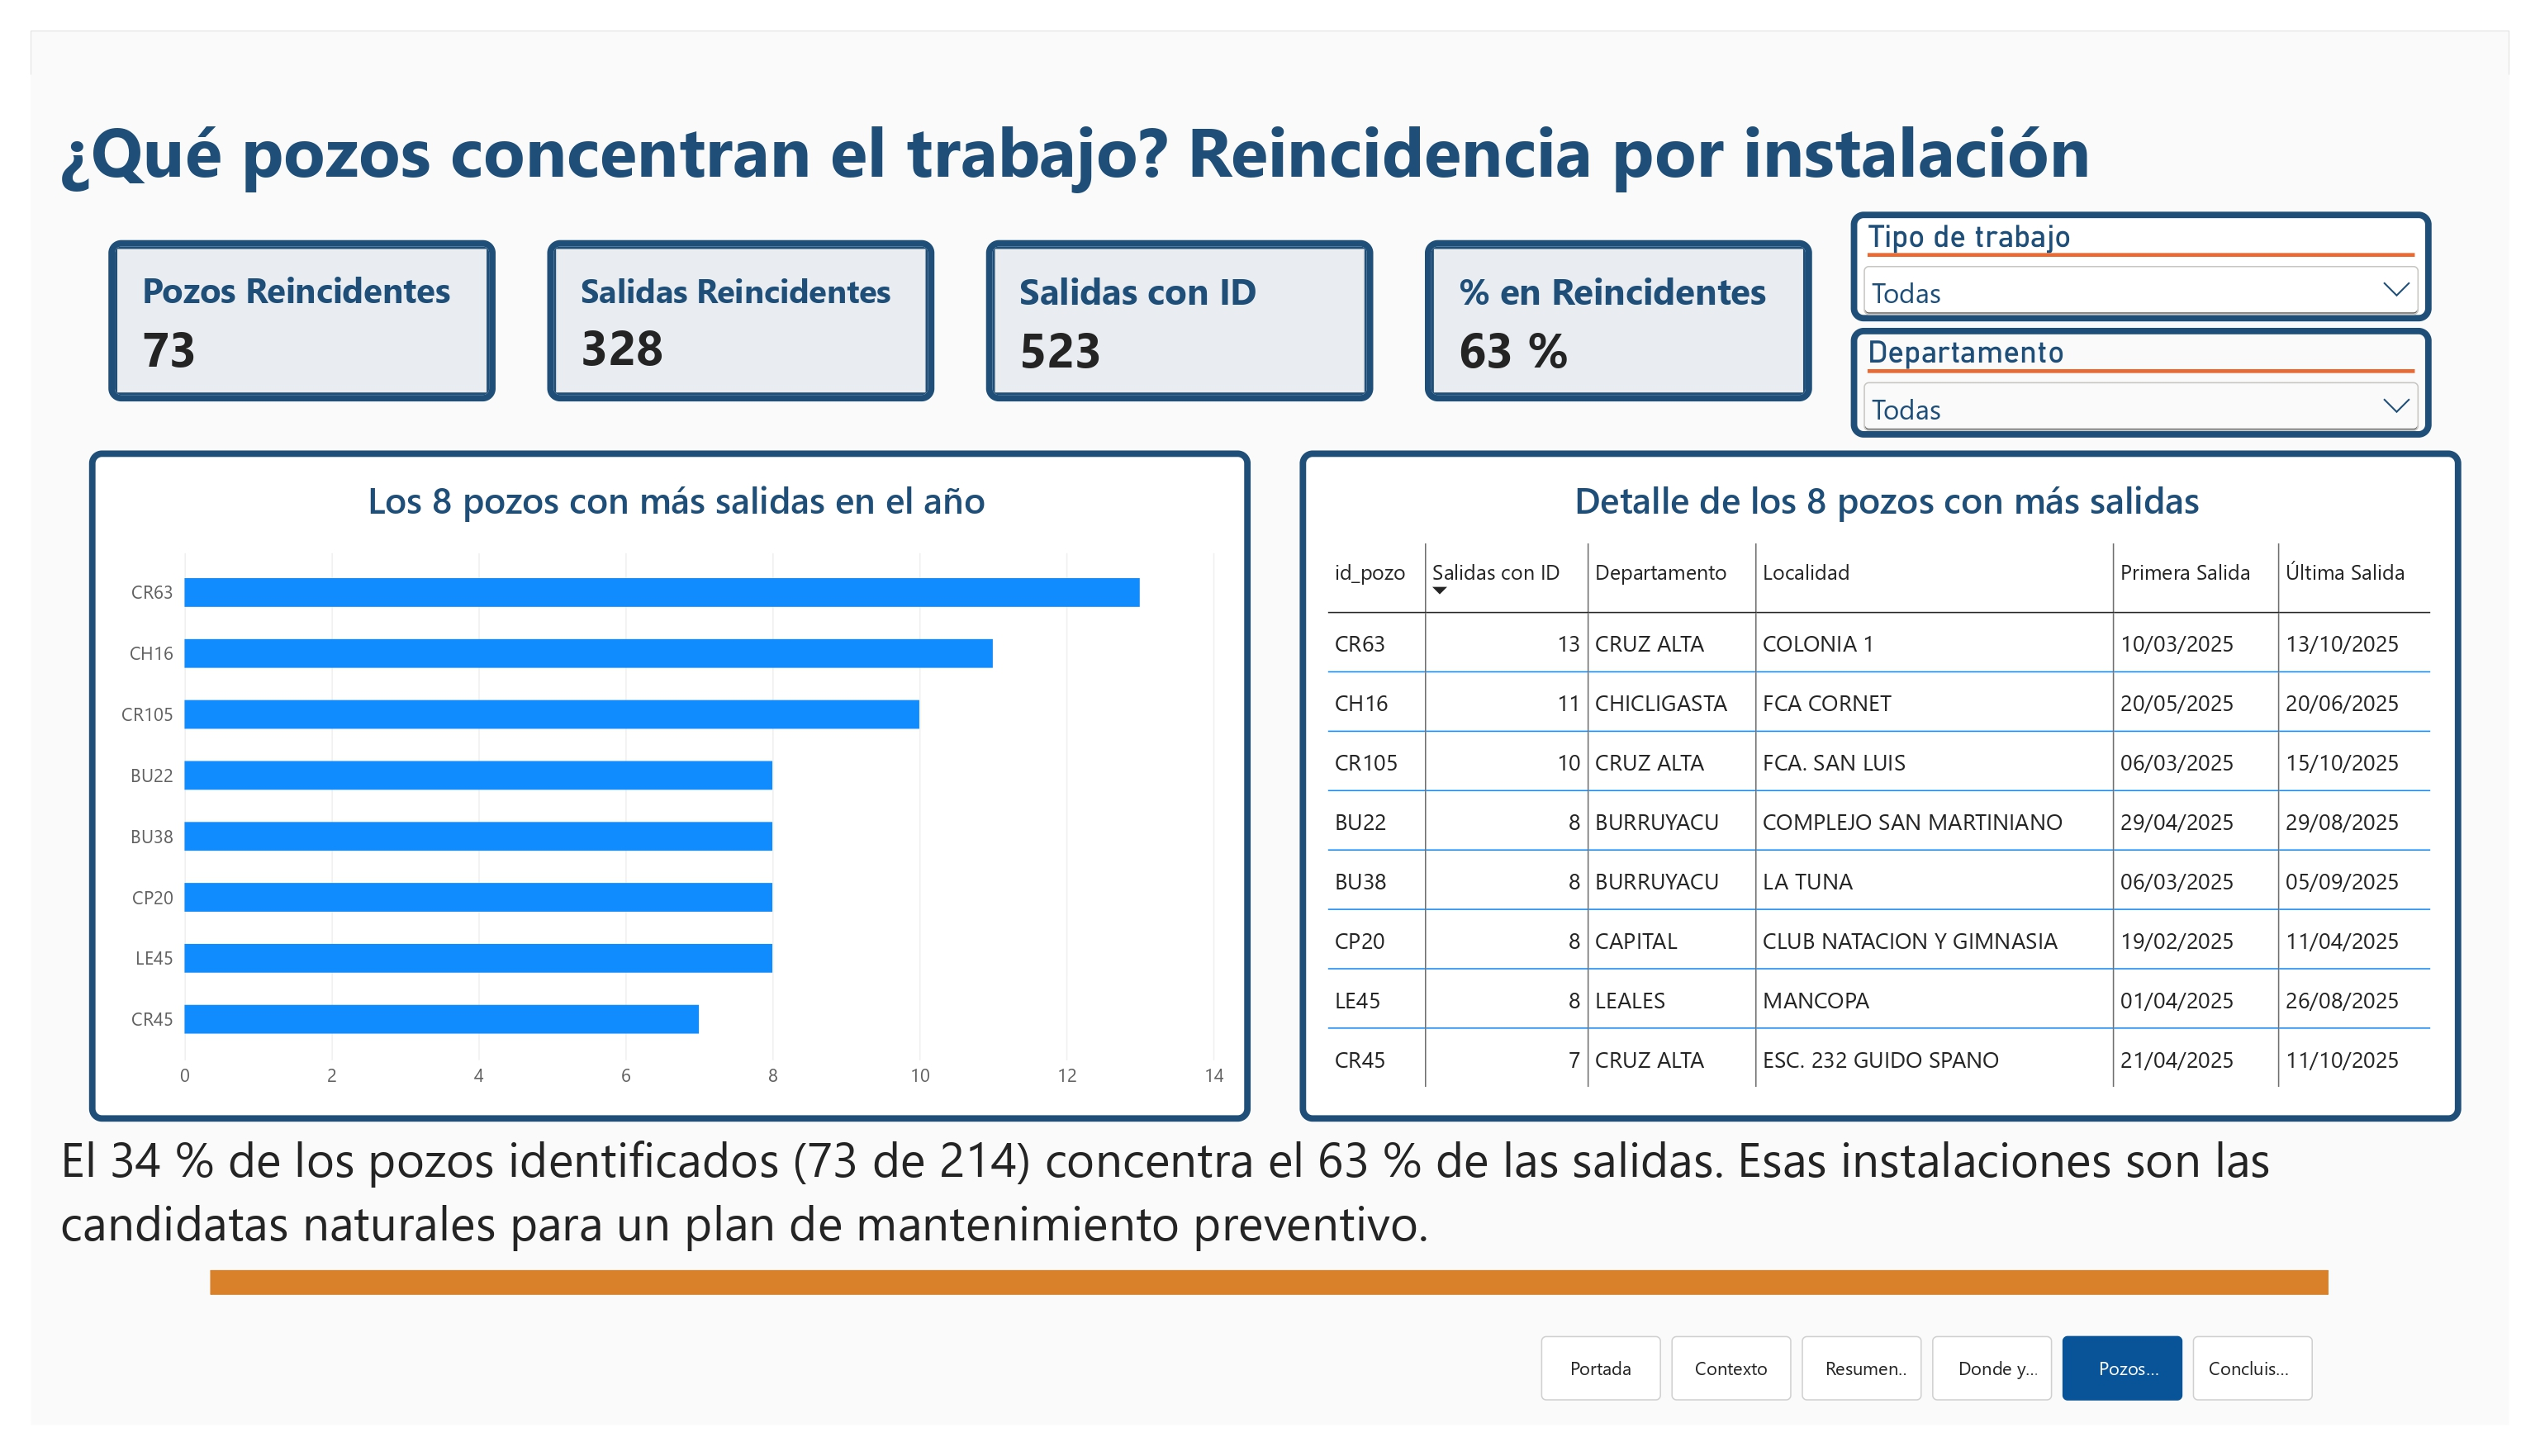

The dashboard page shown, as its layout file describes it:
{"tool":"powerbi","page":{"name":"Pozos reincidentes","canvas":[1920,1080],"ordinal":4},"visuals":[{"type":"textbox","box":[23.3,55,1873.3,923.3],"z":0},{"type":"slicer","fields":{"Values":["Salidas.departamento"]},"box":[1410,230,450,85],"z":1000},{"type":"barChart","title":"Los 8 pozos con más salidas en el año","fields":{"Category":["Salidas.id_pozo"],"Y":["Salidas.Salidas con ID"]},"box":[45,325,900,520],"z":2000},{"type":"slicer","fields":{"Values":["Salidas.tipo_trabajo"]},"box":[1410,140,450,85],"z":3000},{"type":"shape","box":[138.6,960,1641.3,19],"z":4000},{"type":"pageNavigator","box":[1170.1,1011.1,600,50],"z":5000},{"type":"tableEx","title":"Detalle de los 8 pozos con más salidas","fields":{"Values":["Salidas.id_pozo","Salidas.Salidas con ID","Salidas.departamento","Salidas.localidad","Salidas.fecha1","Max(Salidas.fecha)"]},"box":[983.3,324.7,900,520],"z":6000},{"type":"cardVisual","fields":{"Data":["Salidas.% en Reincidentes"]},"box":[1080,162.3,300,125],"z":7000},{"type":"cardVisual","fields":{"Data":["Salidas.Salidas con ID"]},"box":[740,161.7,300,125],"z":8000},{"type":"cardVisual","fields":{"Data":["Salidas.Pozos Reincidentes"]},"box":[60,161.7,300,125],"z":9000},{"type":"cardVisual","fields":{"Data":["Salidas.Salidas en Reincidentes"]},"box":[400,162.3,300,125],"z":10000}]}

Visuals, with their boxes on the page's 1920x1080 design canvas (x1, y1, x2, y2). These are canvas units, not pixel positions in the 2540x1456 screenshot, which may show the page scaled, cropped or inside an application window:
textbox: (23,55,1897,978)
slicer - Salidas.departamento: (1410,230,1860,315)
"Los 8 pozos con más salidas en el año" barChart: (45,325,945,845)
slicer - Salidas.tipo_trabajo: (1410,140,1860,225)
shape: (139,960,1780,979)
pageNavigator: (1170,1011,1770,1061)
"Detalle de los 8 pozos con más salidas" tableEx: (983,325,1883,845)
cardVisual - Salidas.% en Reincidentes: (1080,162,1380,287)
cardVisual - Salidas.Salidas con ID: (740,162,1040,287)
cardVisual - Salidas.Pozos Reincidentes: (60,162,360,287)
cardVisual - Salidas.Salidas en Reincidentes: (400,162,700,287)
